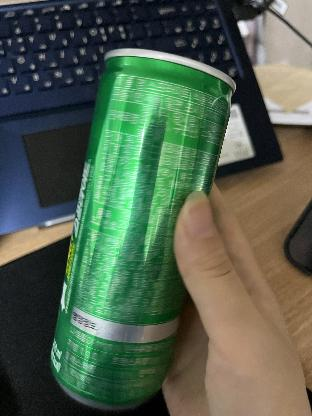Can: (50, 49, 234, 415)
